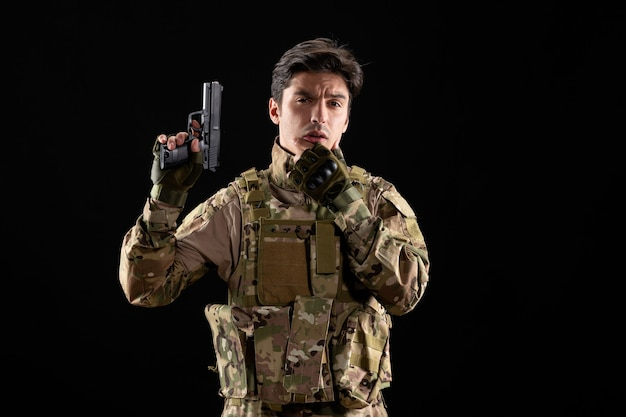gun: (159, 80, 221, 176)
